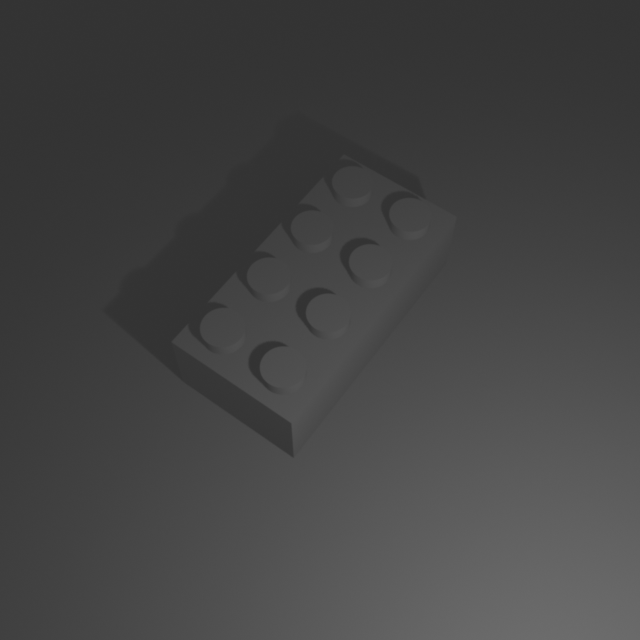lego_2x4: (169, 145, 459, 458)
